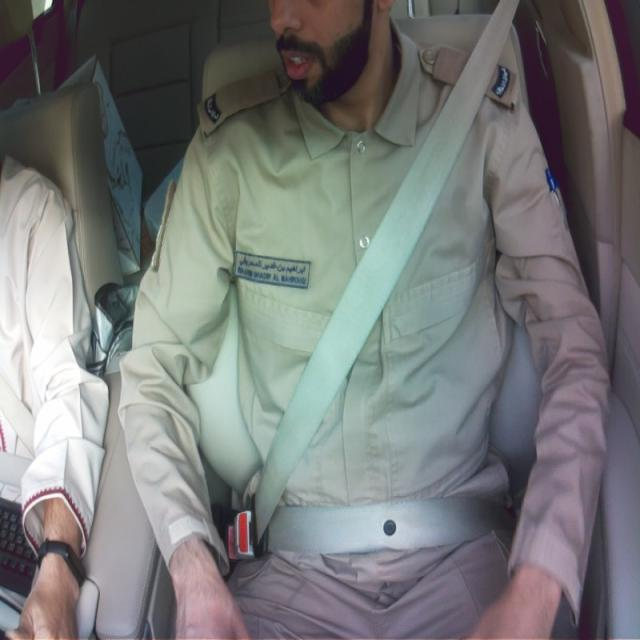seatbelt: (252, 0, 516, 554)
